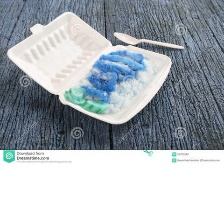foam_box: (3, 8, 176, 127)
